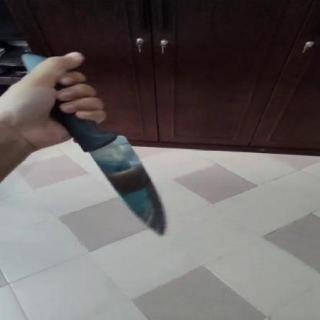knife: (86, 134, 186, 236)
